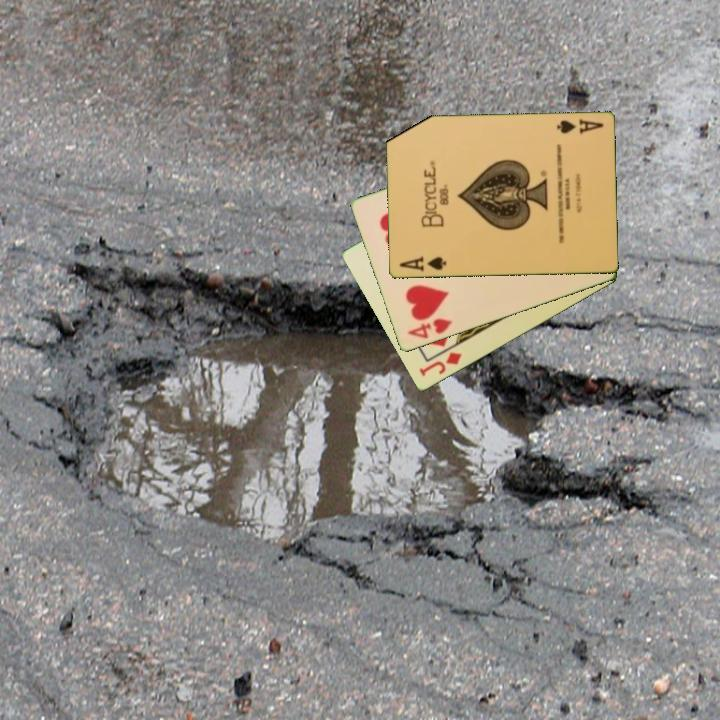4h: (403, 315, 455, 342)
As: (395, 253, 449, 274), (553, 116, 606, 137)
Jd: (415, 349, 465, 380)
